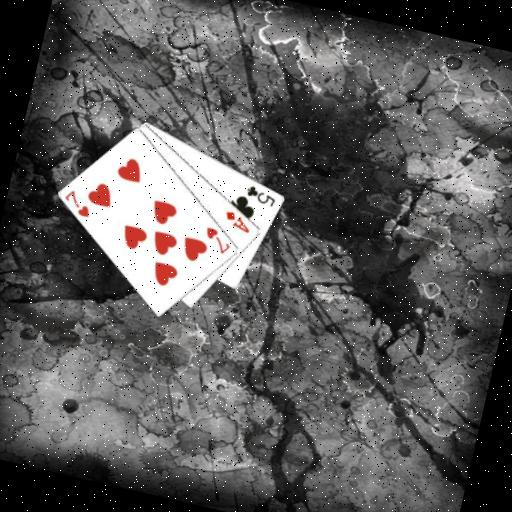5C: (242, 181, 280, 209)
7H: (58, 186, 96, 220), (199, 223, 236, 257)
AD: (219, 207, 255, 236)
